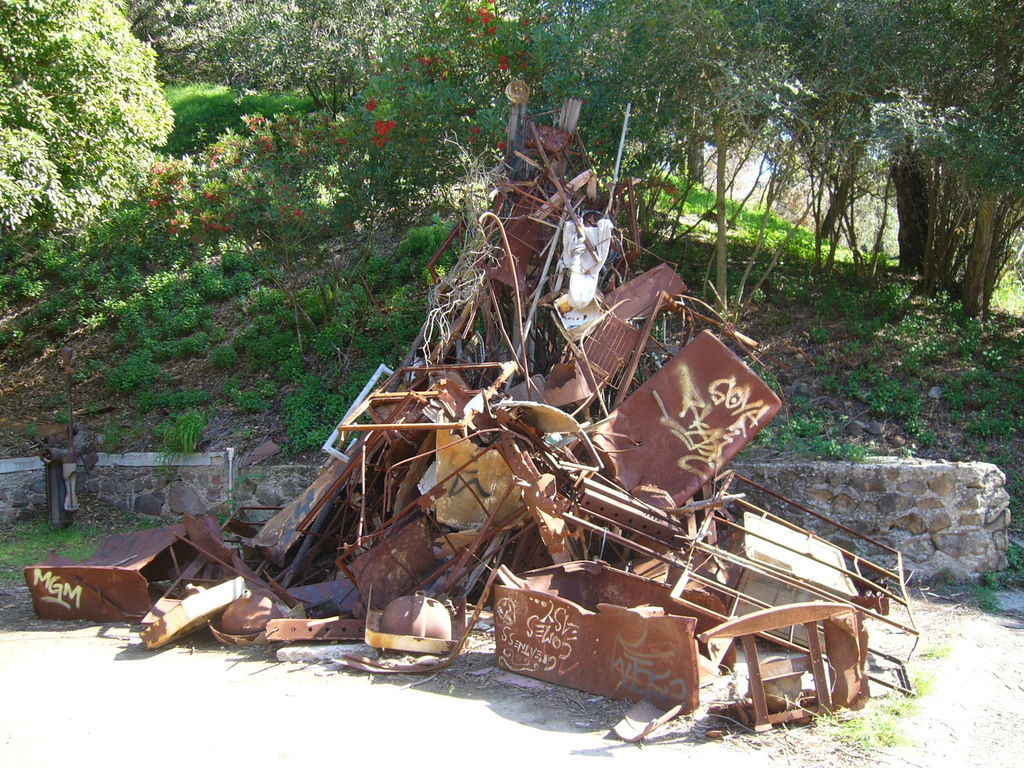Tree: (0, 0, 1024, 455)
